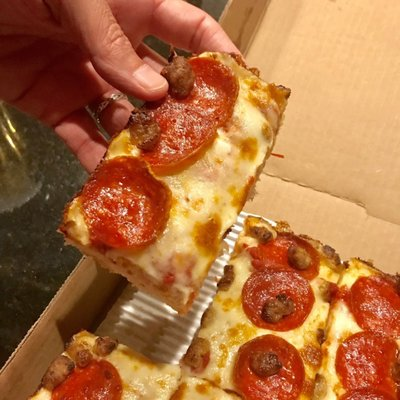sandwich: (55, 48, 292, 318), (173, 214, 399, 400)
